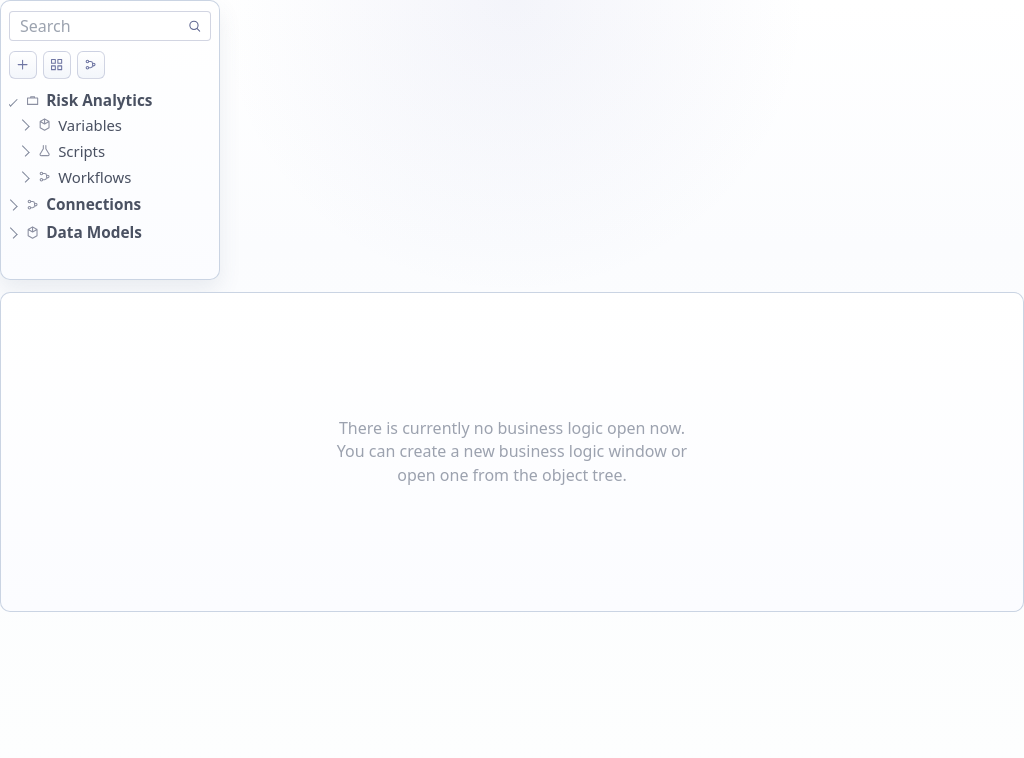
CreditModelerWorkbench connections › resets the new connection builder when Connections is clicked again after save
Click the button "Connections" at x=108, y=205, box [21,193,194,217]
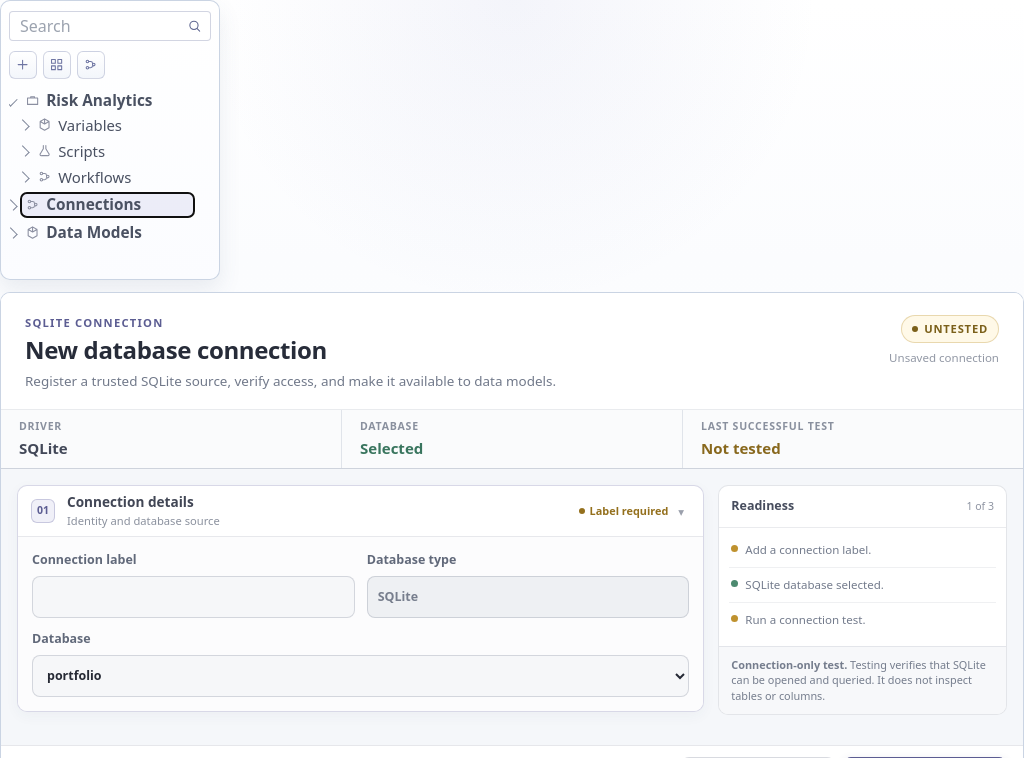
Type "Portfolio" into the field labelled "Connection label" at x=193, y=597, box [32,576,355,618]
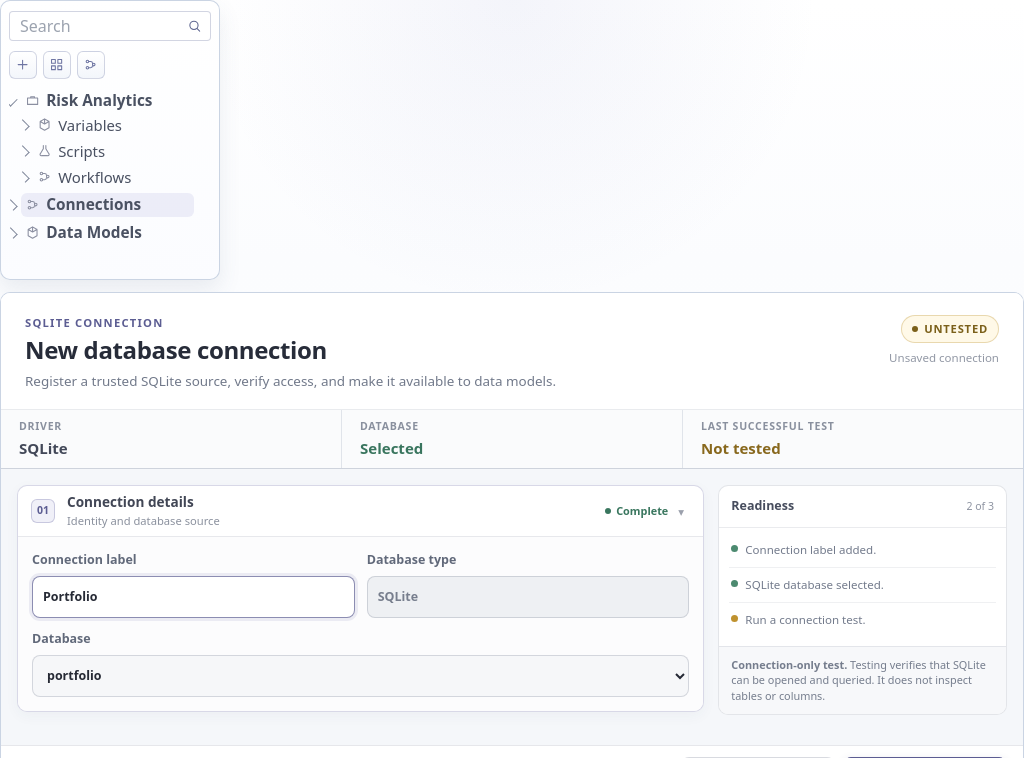
Select "portfolio" in the dropdown labelled "Database" at x=361, y=676, box [32,655,689,697]
(page scrolled)
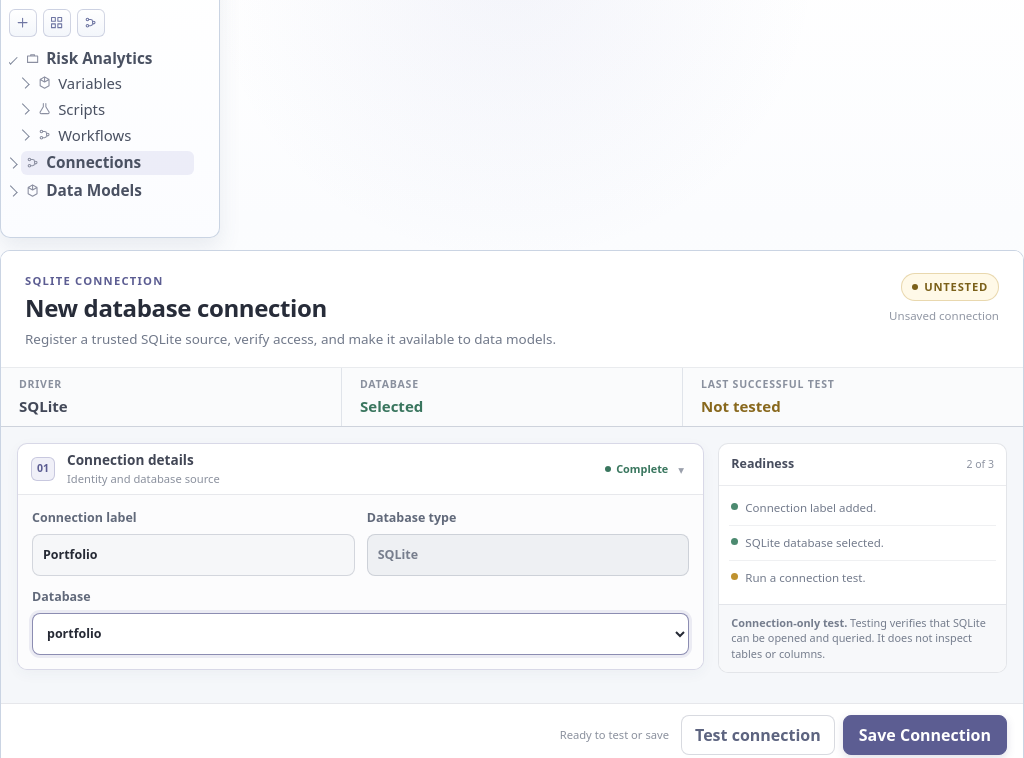
Click the button "Save Connection" at x=925, y=735, box [843,715,1007,755]
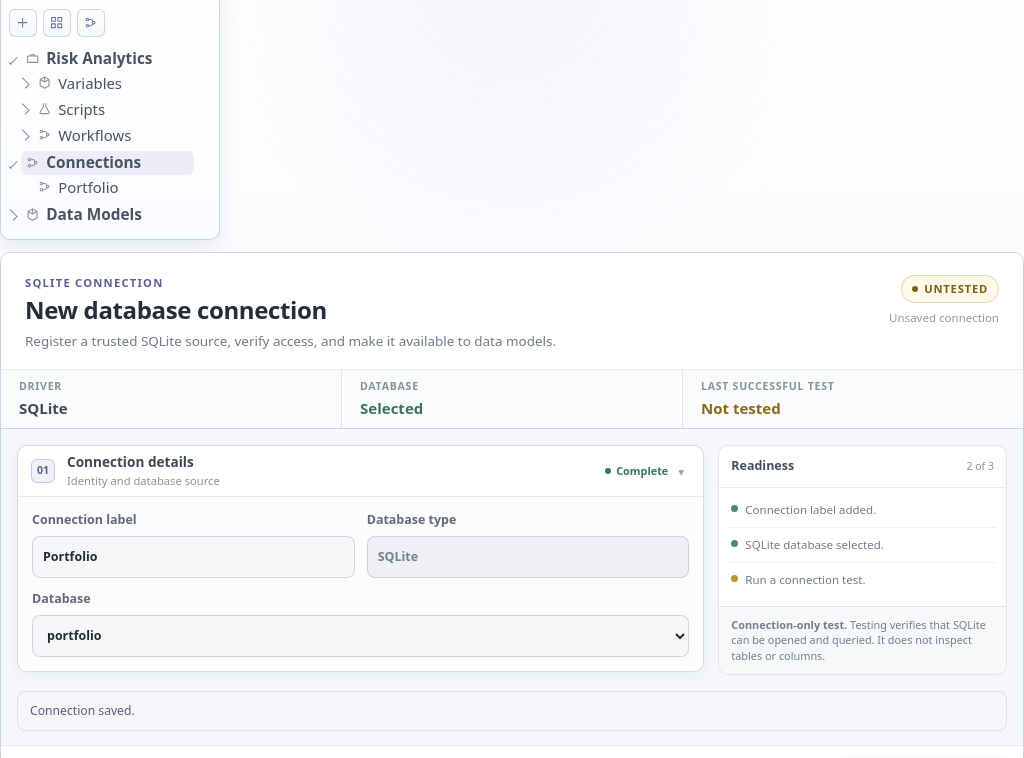
Now the text "Connection saved." is shown, box [17,691,1007,731]
Click the button "Connections" at x=108, y=163, box [21,151,194,175]
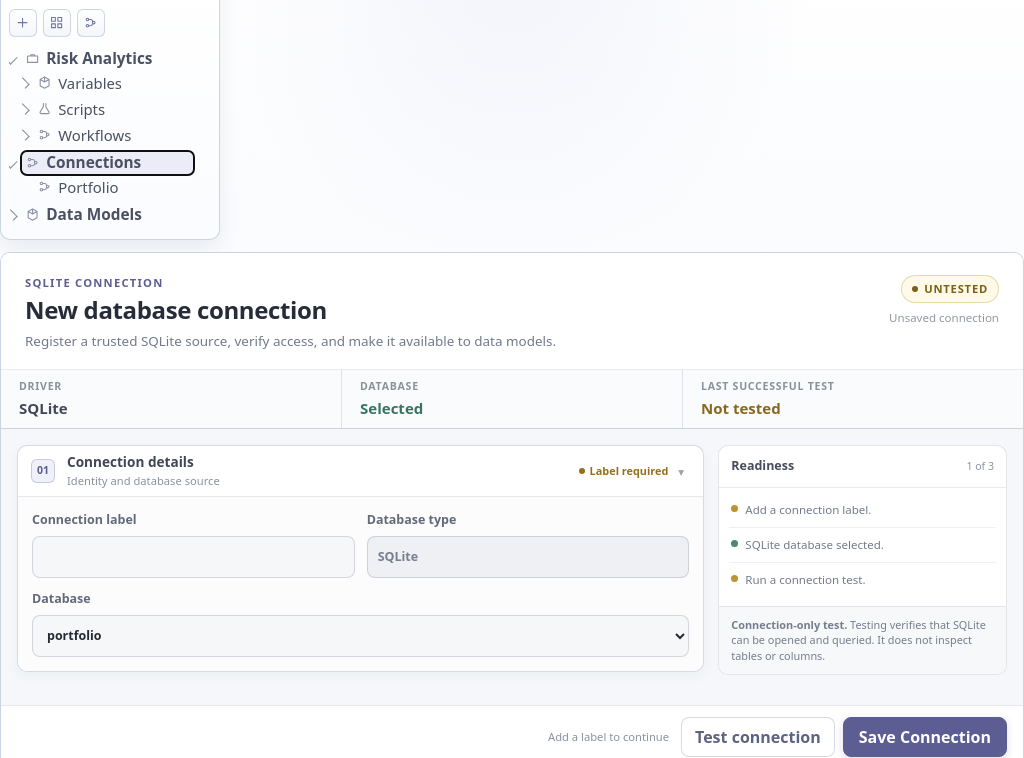
Now the heading "New database connection" is shown, box [25,296,327,324]
Now the field labelled "Connection label" is empty, box [32,536,355,578]
Now the text "Connection saved." is gone
